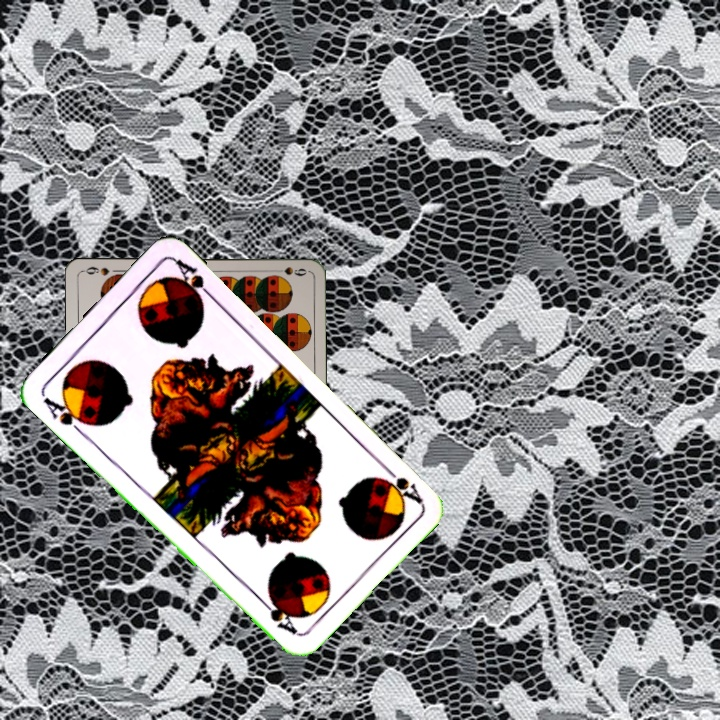S9: (269, 263, 309, 278)
SA: (39, 393, 93, 438), (377, 459, 425, 506)
